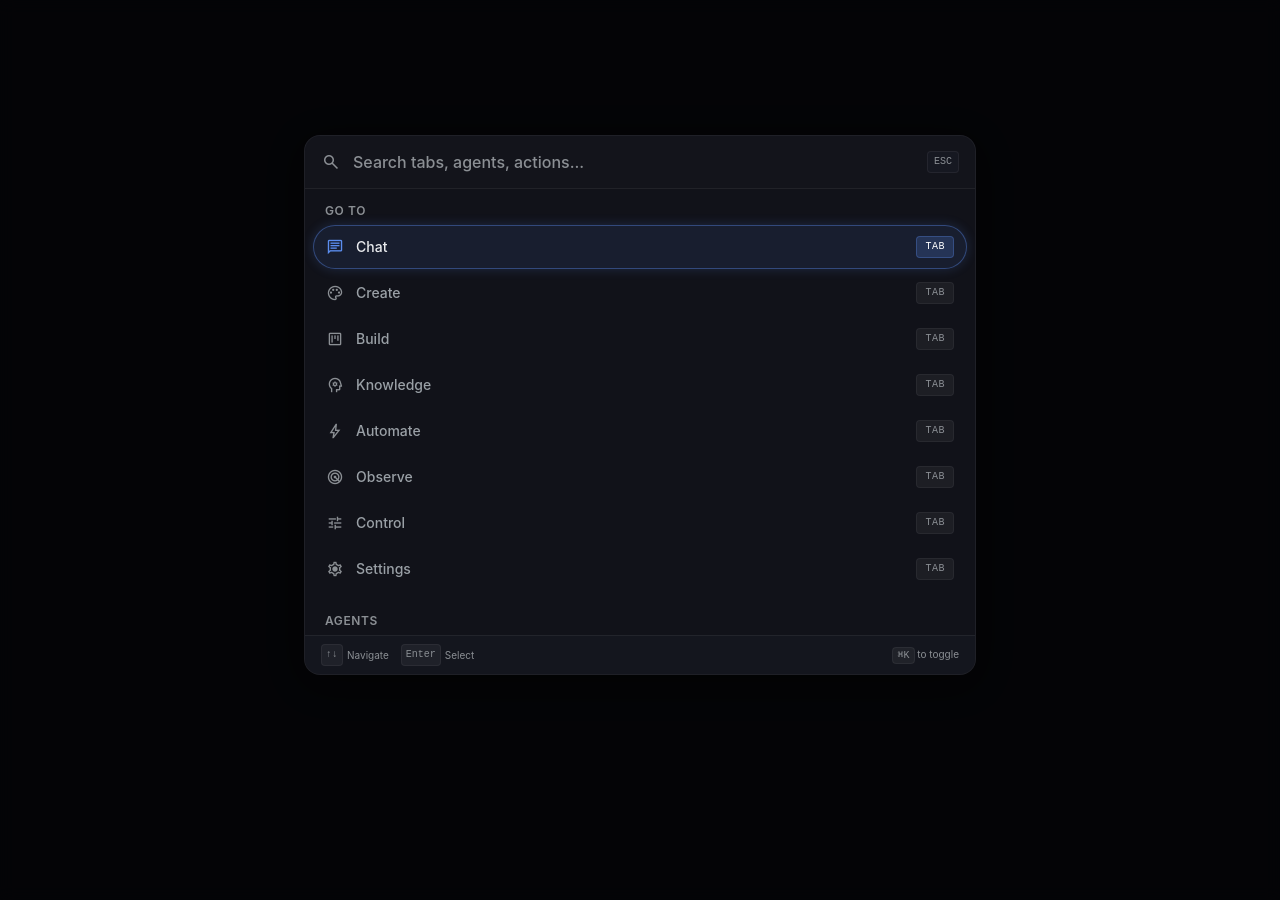
CommandPalette Component › filters results live on typing
This screenshot has width=1280, height=900.
Type "Create" into the field with placeholder "Search tabs, agents, actions..." at (634, 162), box [353,150,915,174]
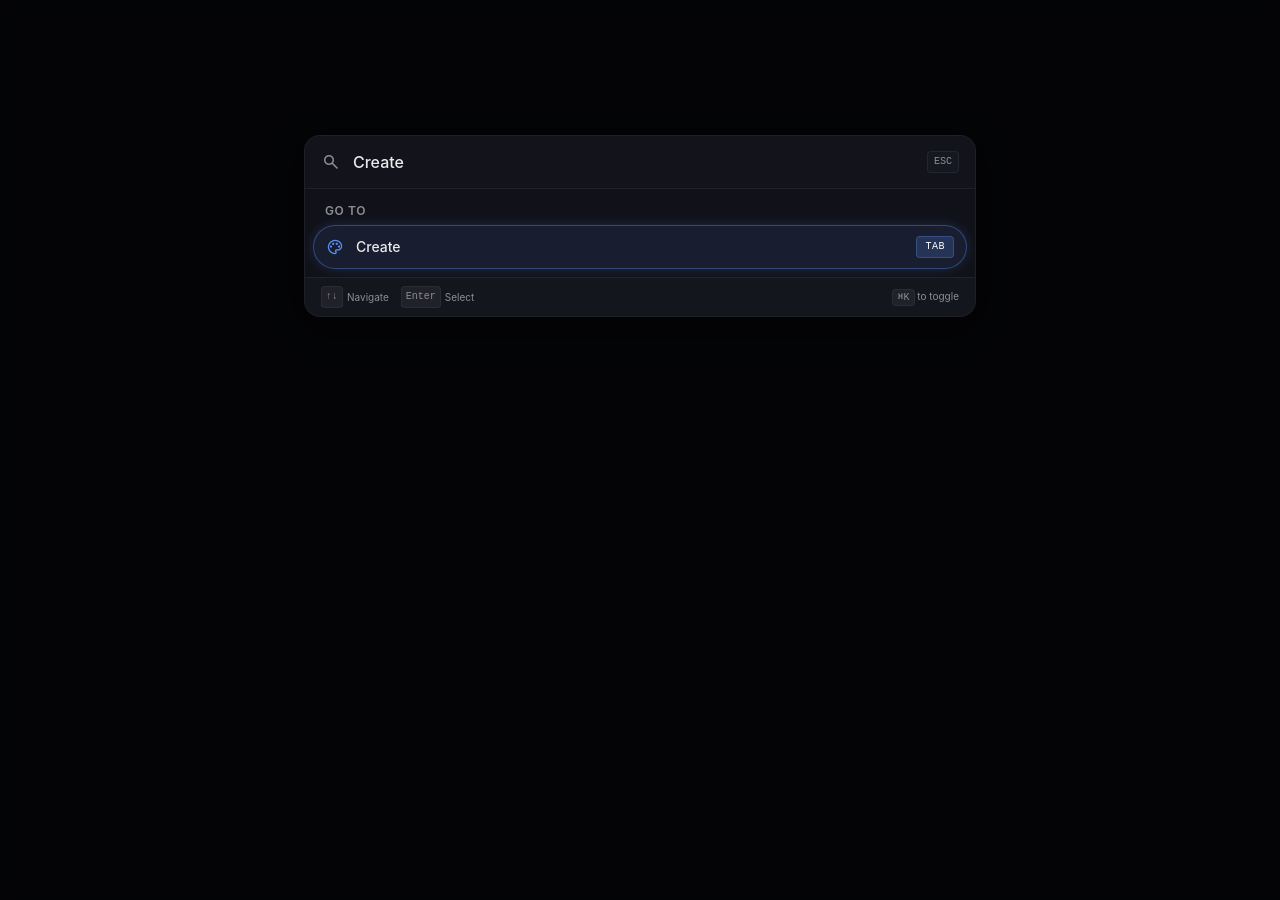
Expected: the text "Create" is shown, [356,240,401,254]
Expected: the button "Chat" is gone
